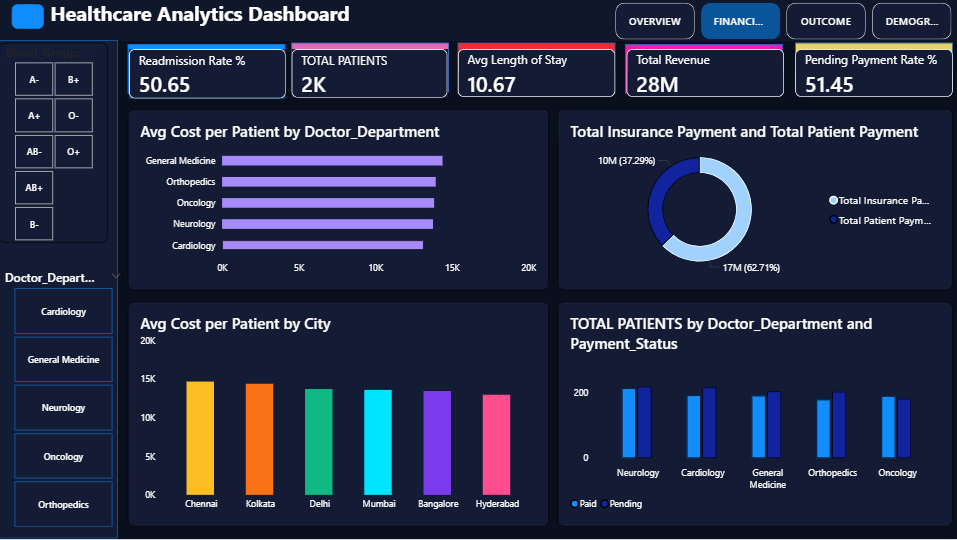

The dashboard page shown, as its layout file describes it:
{"tool":"powerbi","page":{"name":"FINANCIAL ANALYSIS","canvas":[1280,720],"ordinal":1},"visuals":[{"type":"shape","box":[0,0,1280,56],"z":0},{"type":"textbox","box":[16,0,1248,56],"z":1000},{"type":"shape","box":[171.1,60,210,66.7],"z":2000},{"type":"cardVisual","fields":{"Data":["HealthcareData.Readmission Rate %"]},"box":[173.1,66.4,209.2,66.4],"z":3000},{"type":"shape","box":[390,58,210,66],"z":4000},{"type":"shape","box":[0,55.7,158.6,664.3],"z":5000},{"type":"slicer","fields":{"Values":["HealthcareData.Blood_Group"]},"box":[0,59.1,144.8,266.6],"z":6000},{"type":"slicer","fields":{"Values":["HealthcareData.Doctor_Department"]},"box":[0,360,170,346],"z":7000},{"type":"shape","box":[612,58,210,68],"z":8000},{"type":"cardVisual","fields":{"Data":["HealthcareData.Avg Length of Stay"]},"box":[612,66,210,64],"z":9000},{"type":"shape","box":[835,60,210,66],"z":10000},{"type":"shape","box":[1061.4,59,210,65.7],"z":11000},{"type":"cardVisual","fields":{"Data":["HealthcareData.Total Revenue"]},"box":[836,66,210,64],"z":12000},{"type":"cardVisual","fields":{"Data":["HealthcareData.Pending Payment Rate %"]},"box":[1062,66,210,64],"z":13000},{"type":"cardVisual","fields":{"Data":["HealthcareData.TOTAL PATIENTS"]},"box":[390,66,208.8,65],"z":14000},{"type":"shape","box":[16.7,6.7,43.3,33.3],"z":15000},{"type":"textbox","box":[685.3,23.1,49.1,31.7],"z":16000},{"type":"barChart","fields":{"Category":["HealthcareData.Doctor_Department"],"Y":["HealthcareData.Avg Cost per Patient"]},"box":[171.7,146.7,561.7,241.7],"z":25000},{"type":"donutChart","fields":{"Y":["HealthcareData.Total Insurance Payment","HealthcareData.Total Patient Payment"]},"box":[745,146.7,526.7,241.7],"z":26000},{"type":"clusteredColumnChart","fields":{"Category":["HealthcareData.City"],"Y":["HealthcareData.Avg Cost per Patient"]},"box":[171.7,403,561.7,300],"z":27000},{"type":"clusteredColumnChart","fields":{"Category":["HealthcareData.Doctor_Department"],"Series":["HealthcareData.Payment_Status"],"Y":["HealthcareData.TOTAL PATIENTS"]},"box":[744.5,403,526.6,300.1],"z":28000},{"type":"pageNavigator","box":[821.6,4.8,451.2,49.5],"z":28001}]}

Visuals, with their boxes in screenshot pixels (x1, y1, x2, y2), scaled from the page's 1280x720 canvas onto the 957x540 screenshot:
shape: left=0, top=0, right=956, bottom=42
textbox: left=12, top=0, right=945, bottom=42
shape: left=128, top=45, right=285, bottom=95
cardVisual - HealthcareData.Readmission Rate %: left=129, top=50, right=286, bottom=100
shape: left=292, top=44, right=449, bottom=93
shape: left=0, top=42, right=119, bottom=539
slicer - HealthcareData.Blood_Group: left=0, top=44, right=108, bottom=244
slicer - HealthcareData.Doctor_Department: left=0, top=270, right=127, bottom=530
shape: left=458, top=44, right=615, bottom=94
cardVisual - HealthcareData.Avg Length of Stay: left=458, top=50, right=615, bottom=98
shape: left=624, top=45, right=781, bottom=94
shape: left=794, top=44, right=951, bottom=94
cardVisual - HealthcareData.Total Revenue: left=625, top=50, right=782, bottom=98
cardVisual - HealthcareData.Pending Payment Rate %: left=794, top=50, right=951, bottom=98
cardVisual - HealthcareData.TOTAL PATIENTS: left=292, top=50, right=448, bottom=98
shape: left=12, top=5, right=45, bottom=30
textbox: left=512, top=17, right=549, bottom=41
barChart - HealthcareData.Doctor_Department x HealthcareData.Avg Cost per Patient: left=128, top=110, right=548, bottom=291
donutChart - HealthcareData.Total Insurance Payment x HealthcareData.Total Patient Payment: left=557, top=110, right=951, bottom=291
clusteredColumnChart - HealthcareData.City x HealthcareData.Avg Cost per Patient: left=128, top=302, right=548, bottom=527
clusteredColumnChart - HealthcareData.Doctor_Department x HealthcareData.Payment_Status: left=557, top=302, right=950, bottom=527
pageNavigator: left=614, top=4, right=952, bottom=41
